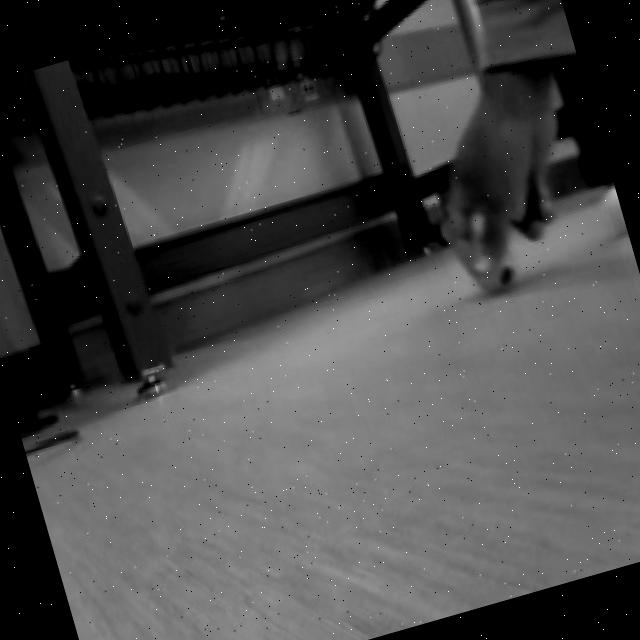ping-pong-ball: (454, 216, 532, 302), (593, 182, 628, 240)
